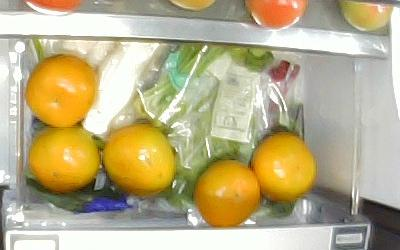persimmon: (26, 56, 98, 127), (103, 125, 176, 195), (249, 133, 318, 202), (28, 125, 100, 190), (194, 161, 259, 227)
